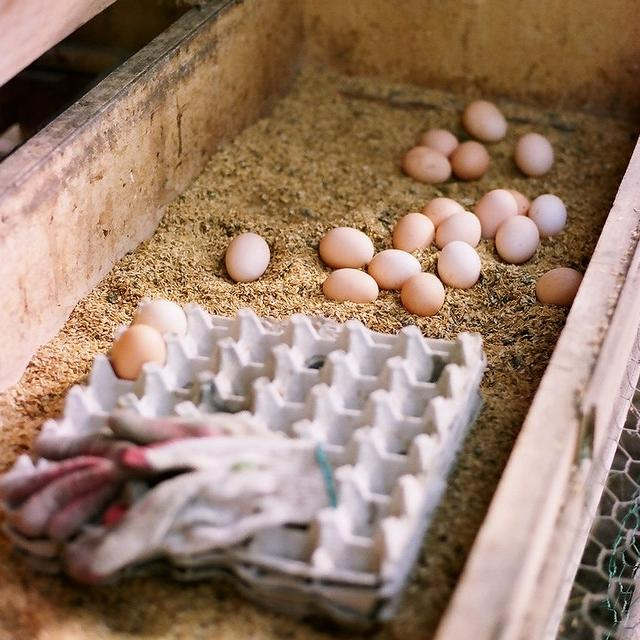egg: (374, 241, 455, 328), (481, 185, 569, 261), (404, 122, 486, 190), (386, 193, 482, 246), (110, 324, 166, 379), (442, 238, 498, 293), (458, 99, 516, 142), (317, 226, 373, 269), (314, 266, 370, 308), (223, 232, 270, 282), (130, 298, 186, 337), (534, 267, 582, 305), (514, 132, 554, 175)
